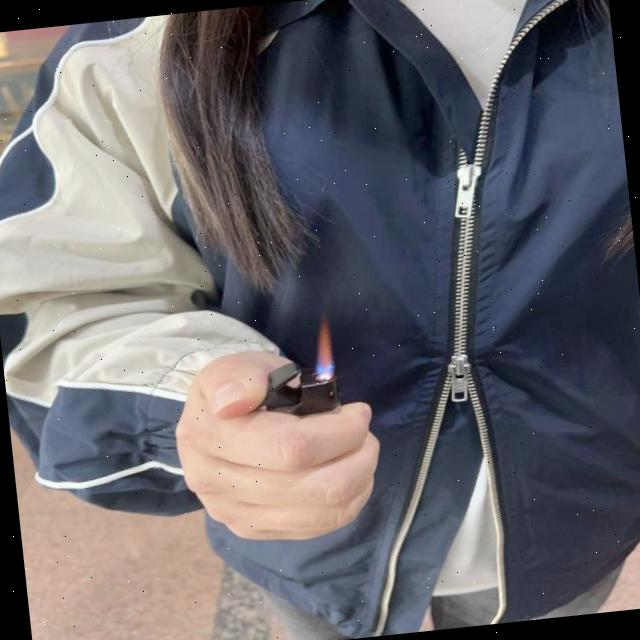fire: (308, 322, 338, 376)
